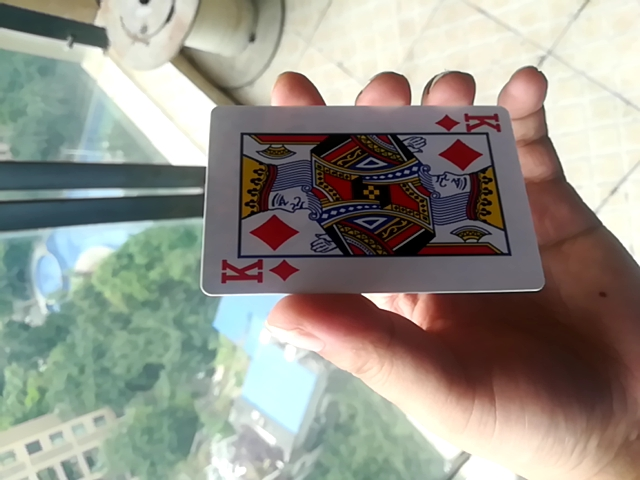fk k: (203, 104, 540, 295)
